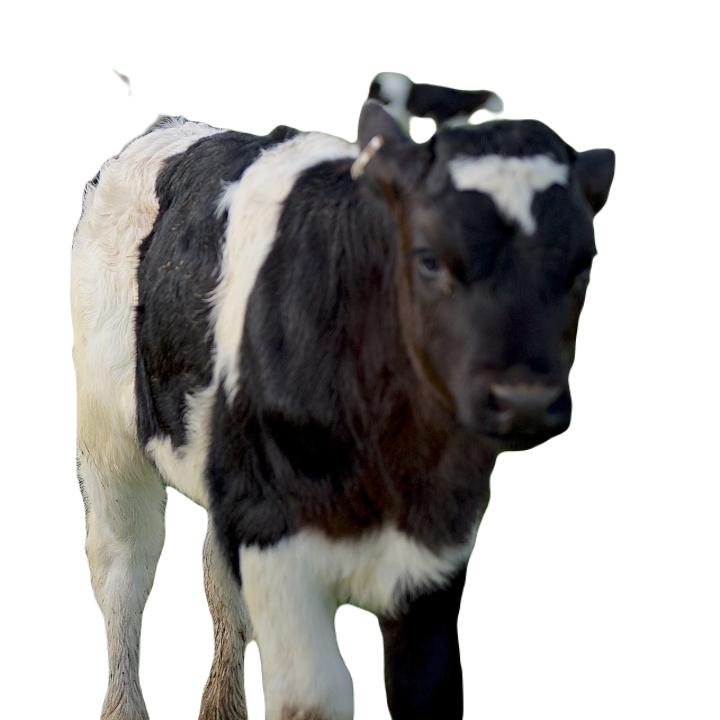Cow: (65, 99, 619, 719), (581, 88, 587, 89)
